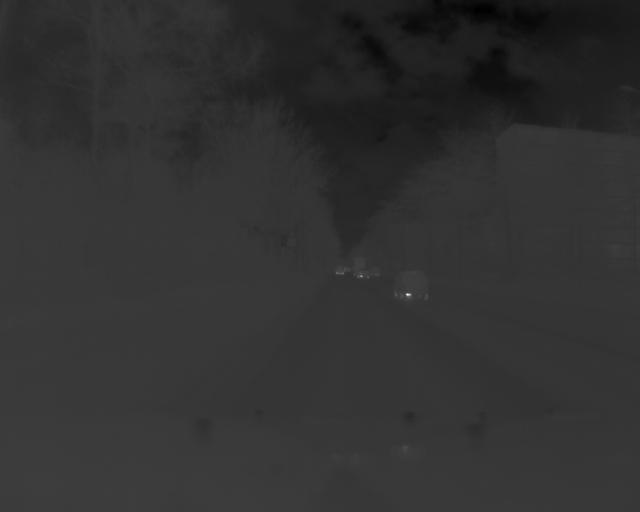car: (387, 269, 433, 300), (356, 266, 371, 280), (334, 264, 347, 278)
